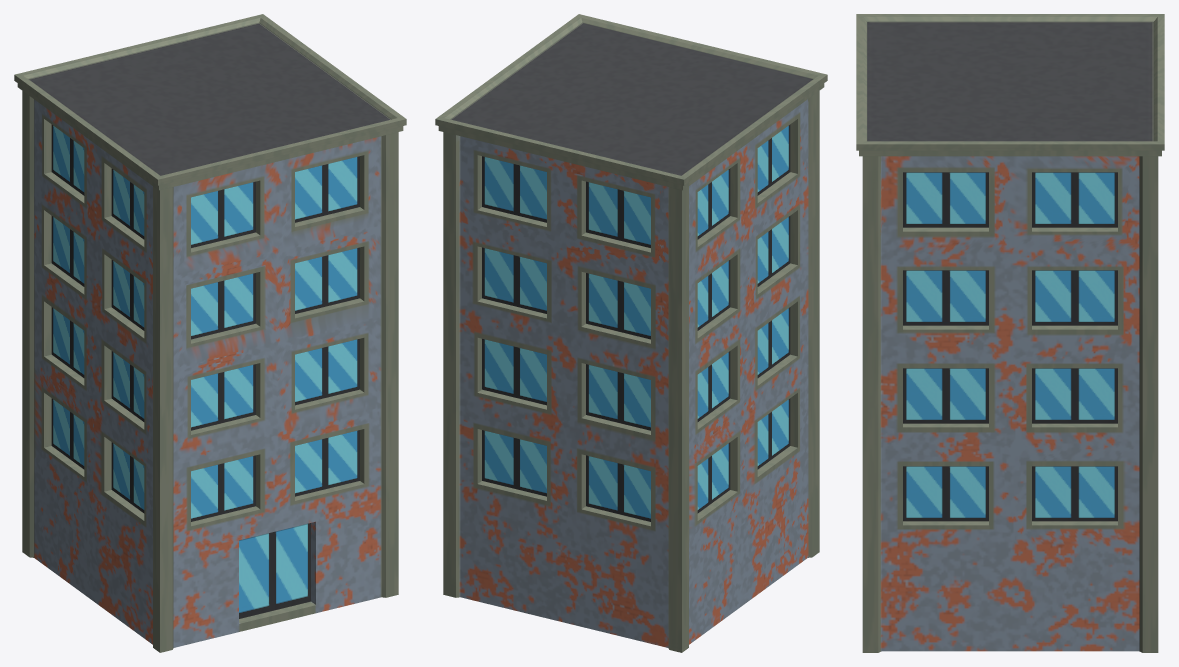
File: PaintedBuildingTall.fbx
The picture shows the model from 3 angles, left to right: view 1: azimuth 30°, elevation 25°; view 2: azimuth 150°, elevation 25°; view 3: azimuth 270°, elevation 25°; orthographic projection. The views are drawn at different scales.
Parts seen in each view (by area): view 1: PaintedBuildingTall; view 2: PaintedBuildingTall; view 3: PaintedBuildingTall.
Part boxes in pixels (bbox=[...]): PaintedBuildingTall: bbox=[14, 14, 406, 652]; PaintedBuildingTall: bbox=[435, 14, 827, 652]; PaintedBuildingTall: bbox=[856, 14, 1164, 652].
Bounding box in the file's own units: 642 × 1175 × 642.
